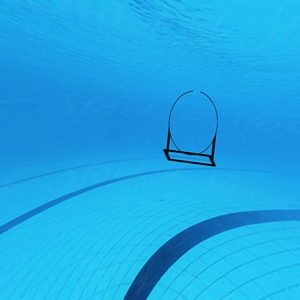circle: (162, 86, 225, 173)
